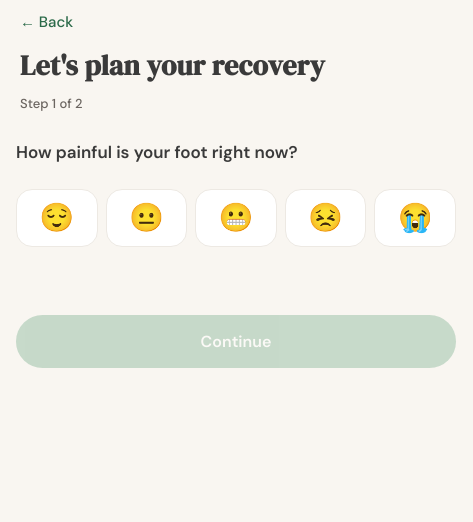
Test: RehabOnboarding — step 2 (duration) › disables the finish button until a duration is chosen
Click the button named "Severe pain" at (415, 218), box [374,189,456,247]
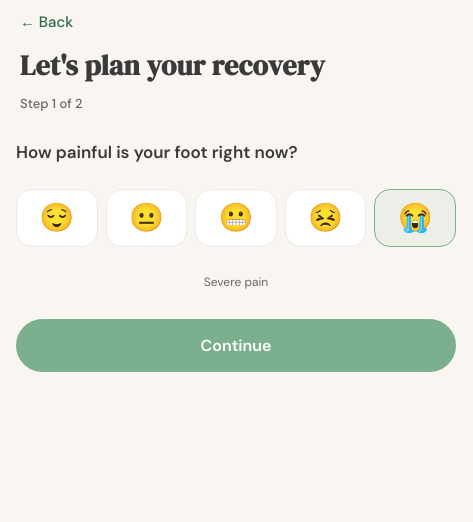
Click the button "Continue" at (236, 346), box [16,319,456,372]
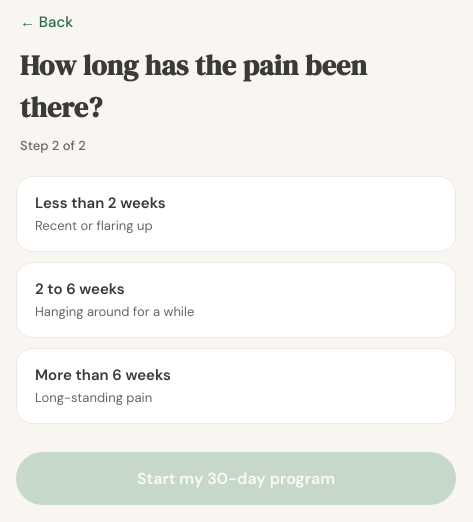
Check: the text "Step 2 of 2" is shown, box [20,137,86,154]
Check: the button "Start my 30-day program" is disabled, box [16,452,456,505]
